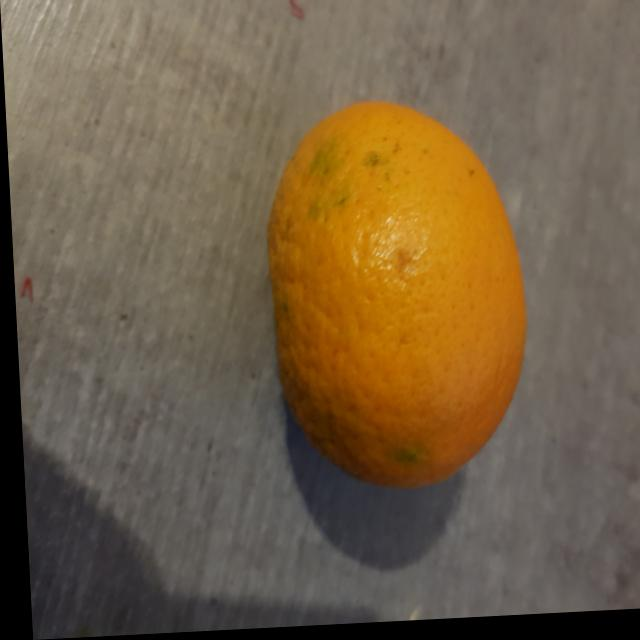Orange: (263, 105, 524, 496)
